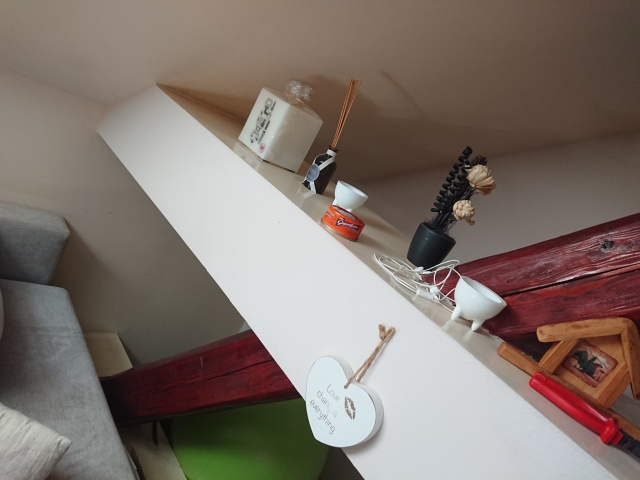Gavrilovic Pork Liver Pate 100g: (319, 202, 366, 243)
